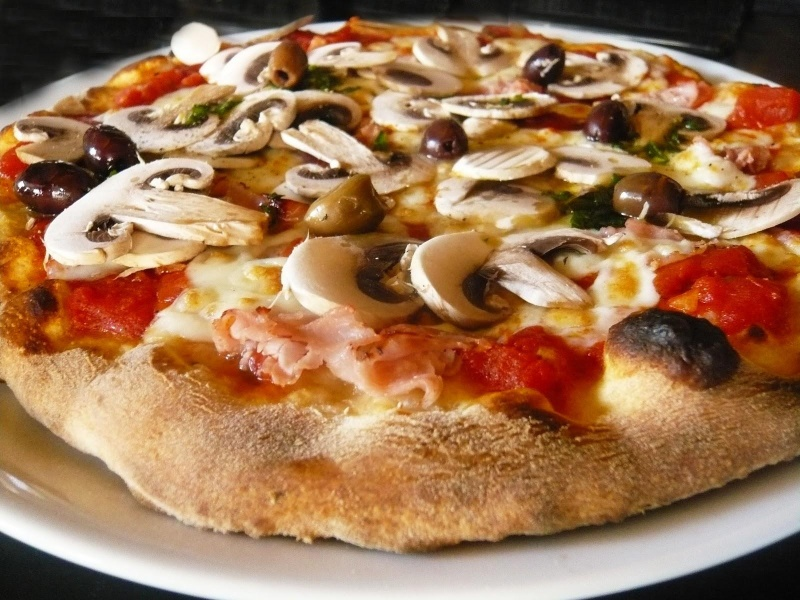champignon: (28, 153, 276, 282), (274, 232, 440, 322), (271, 116, 448, 200), (84, 81, 244, 158), (407, 227, 519, 332), (554, 45, 656, 104), (5, 113, 101, 166)
olive: (291, 166, 398, 237), (603, 171, 700, 227), (9, 158, 102, 216), (575, 98, 648, 153), (78, 123, 149, 177), (414, 108, 476, 166), (511, 41, 577, 89), (266, 34, 317, 96)
